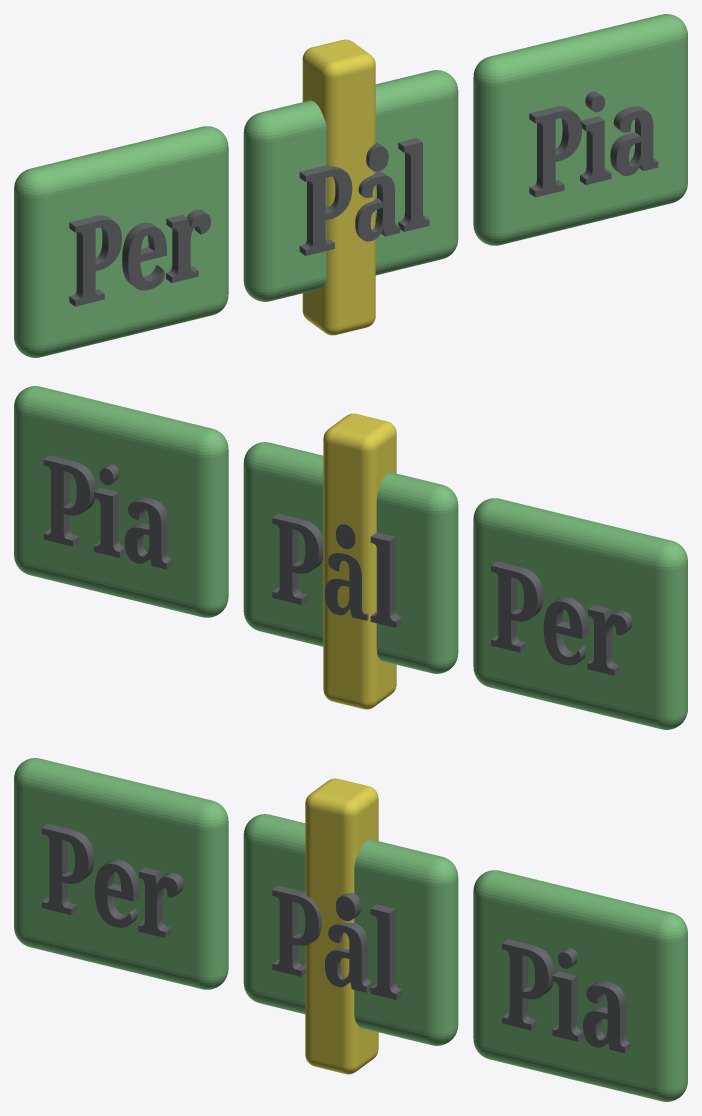
The model's file is shotterud.glb.
3 views of the same model, one above another, from view 1: azimuth 30°, elevation 25°; view 2: azimuth 150°, elevation 25°; view 3: azimuth 330°, elevation 25° (orthographic).
Visible parts, largest first — view 1: Mesh_Mesh_head_geo.001_lambert2SG.001; view 2: Mesh_Mesh_head_geo.001_lambert2SG.001; view 3: Mesh_Mesh_head_geo.001_lambert2SG.001.
Part boxes in pixels (bbox=[...]): Mesh_Mesh_head_geo.001_lambert2SG.001: bbox=[14, 14, 687, 357]; Mesh_Mesh_head_geo.001_lambert2SG.001: bbox=[14, 386, 687, 729]; Mesh_Mesh_head_geo.001_lambert2SG.001: bbox=[14, 758, 687, 1101].
Size of the model in its own units: 64 by 25 by 5.55.
